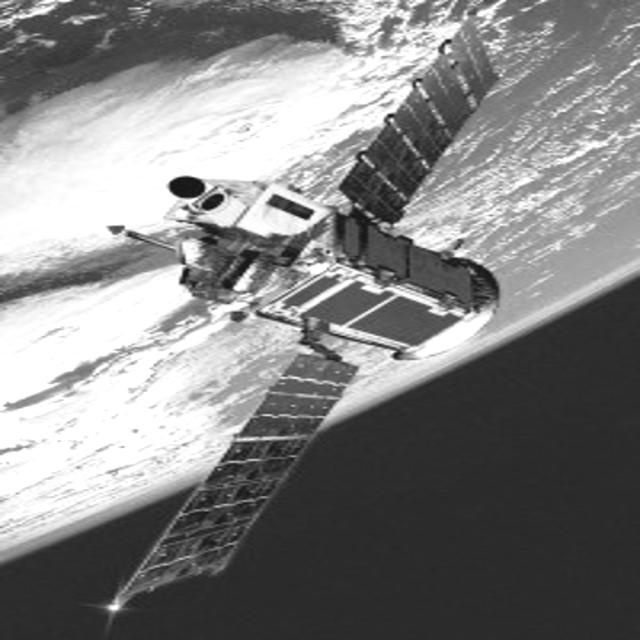satellite: (99, 5, 506, 625)
